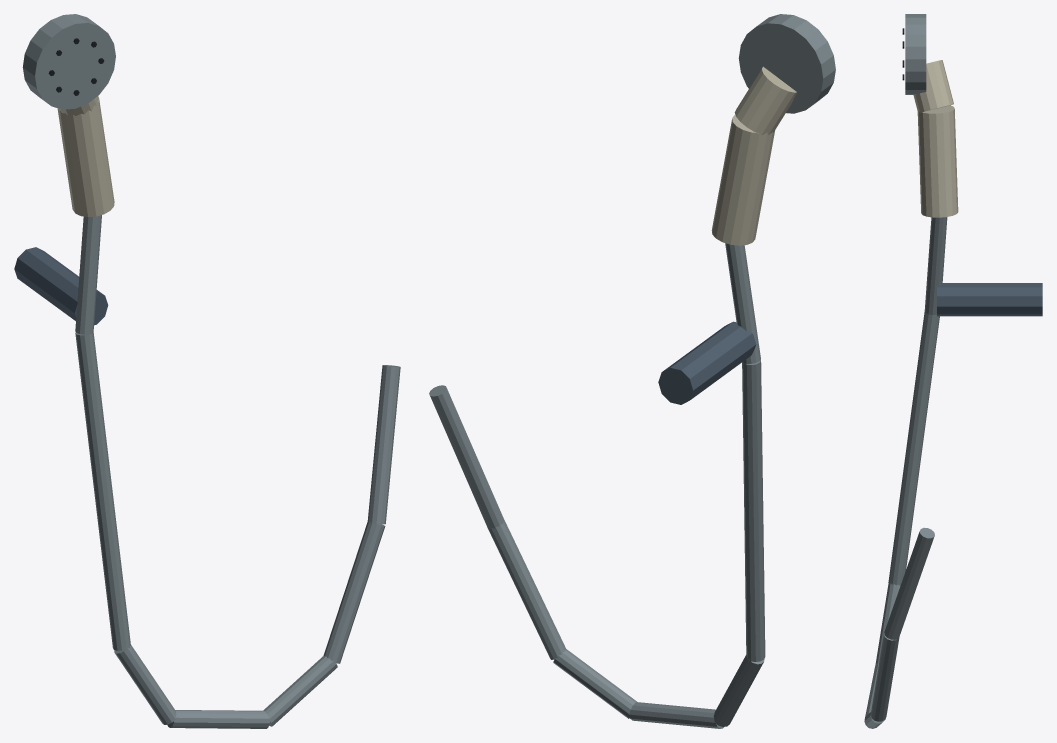
Rendered from W-02_hand_shower.glb.
The picture shows the model from 3 angles, left to right: view 1: azimuth 30°, elevation 25°; view 2: azimuth 150°, elevation 25°; view 3: azimuth 270°, elevation 25°; orthographic projection. The views are drawn at different scales.
Visible parts, largest first — view 1: W-02_hand_shower; view 2: W-02_hand_shower; view 3: W-02_hand_shower.
Boxes of the visible parts, x1,y1,x2,y2 form: W-02_hand_shower: [14, 14, 400, 728]; W-02_hand_shower: [429, 14, 835, 728]; W-02_hand_shower: [864, 14, 1042, 728].
Bounding box in the file's own units: 0.4277 × 0.7938 × 0.201.
